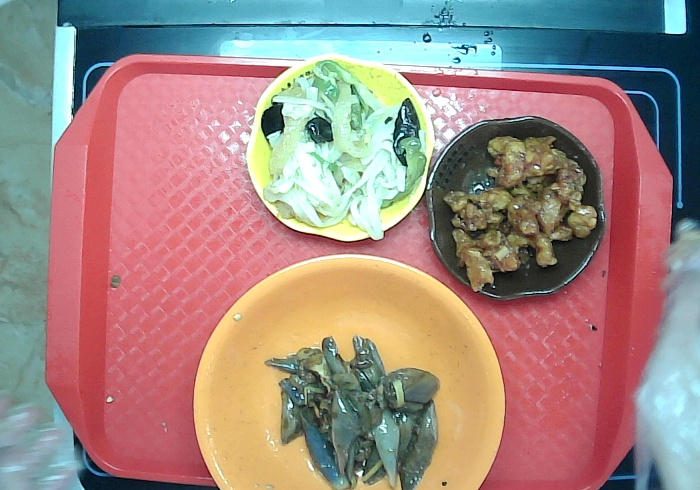YKMZ-Huang_Se_Ao_Bian_Wan: (246, 55, 436, 242)
YKMZ-Ju_Se_Tang_Wan: (193, 253, 508, 490)
YKMZ-Ka_Fei_Ao_Bian_Wan: (426, 113, 605, 301)
